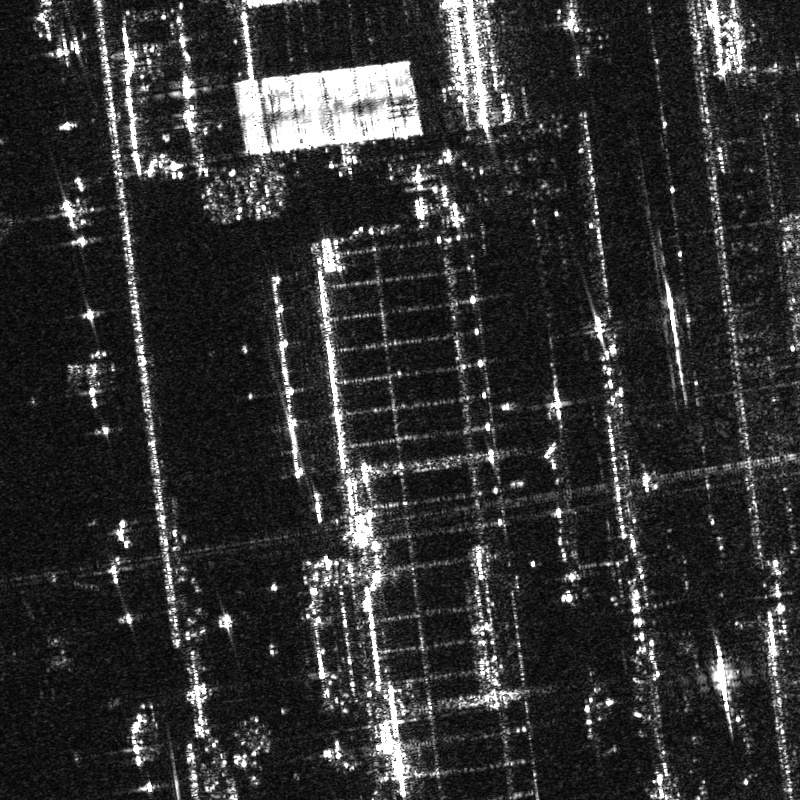Boeing787: (1, 602, 91, 711)
